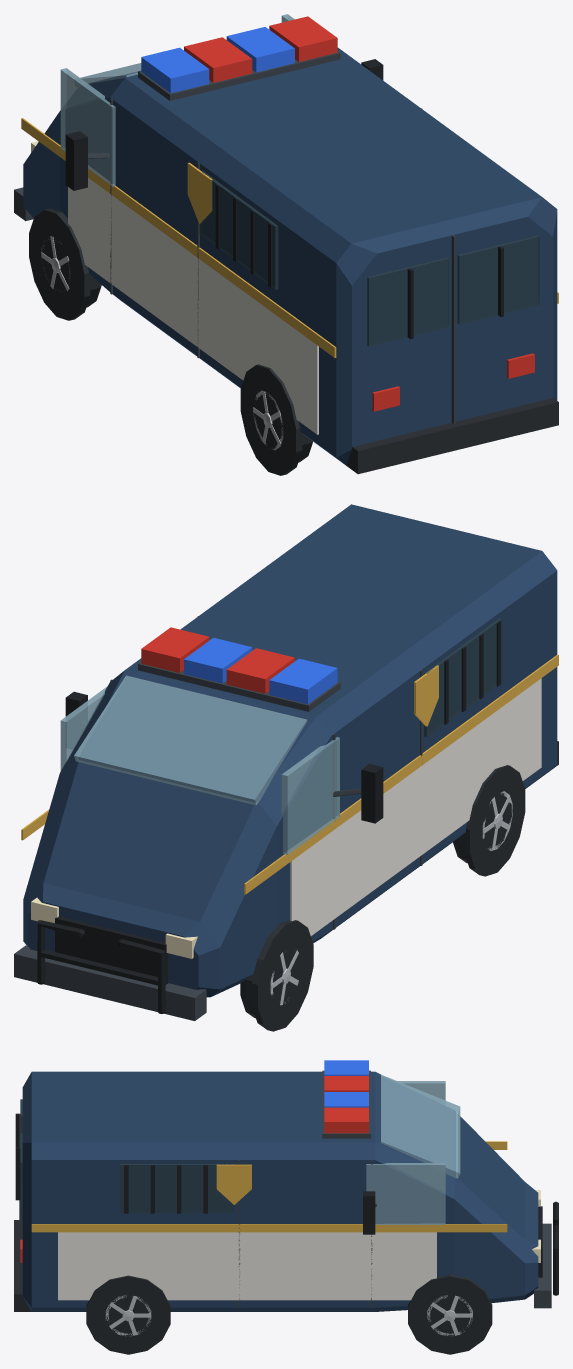
File: LAND_05.obj
The picture shows the model from 3 angles, top to bottom: view 1: azimuth 30°, elevation 25°; view 2: azimuth 150°, elevation 25°; view 3: azimuth 270°, elevation 25°; orthographic projection. The views are drawn at different scales.
Visible parts, largest first — view 1: body, doors_white, rear_windows, lightbar, bumpers, windows, barred_windows, wheel_R_L_arch, stripe, wheel_F_L_arch, wheel_F_L, wheel_R_L (+6 smaller); view 2: body, windows, doors_white, lightbar, bumpers, stripe, barred_windows, grille, wheel_F_L_arch, wheel_R_L_arch, wheel_F_L, wheel_R_L (+5 smaller); view 3: body, doors_white, windows, barred_windows, stripe, wheel_F_R_arch, wheel_R_R_arch, lightbar, wheel_F_R, wheel_R_R, bumpers, bars (+3 smaller).
Boxes of the visible parts, bbox=[...] form: body: bbox=[23, 47, 557, 465]; doors_white: bbox=[68, 178, 318, 434]; rear_windows: bbox=[367, 235, 539, 346]; lightbar: bbox=[138, 16, 340, 100]; bumpers: bbox=[14, 187, 558, 474]; windows: bbox=[60, 14, 294, 186]; barred_windows: bbox=[199, 170, 278, 289]; wheel_R_L_arch: bbox=[240, 364, 302, 475]; stripe: bbox=[21, 118, 558, 357]; wheel_F_L_arch: bbox=[29, 208, 90, 320]; wheel_F_L: bbox=[35, 222, 101, 307]; wheel_R_L: bbox=[247, 378, 312, 462]; body: bbox=[23, 504, 557, 997]; windows: bbox=[60, 675, 339, 854]; doors_white: bbox=[290, 678, 541, 935]; lightbar: bbox=[138, 627, 340, 711]; bumpers: bbox=[14, 741, 558, 1020]; stripe: bbox=[21, 654, 558, 894]; barred_windows: bbox=[424, 618, 502, 736]; grille: bbox=[55, 916, 168, 984]; wheel_F_L_arch: bbox=[252, 920, 313, 1031]; wheel_R_L_arch: bbox=[464, 765, 525, 876]; wheel_F_L: bbox=[240, 933, 307, 1018]; wheel_R_L: bbox=[453, 778, 518, 863]; body: bbox=[22, 1071, 538, 1311]; doors_white: bbox=[58, 1232, 436, 1300]; windows: bbox=[366, 1074, 460, 1224]; barred_windows: bbox=[119, 1164, 234, 1212]; stripe: bbox=[31, 1141, 507, 1232]; wheel_F_R_arch: bbox=[408, 1274, 492, 1354]; wheel_R_R_arch: bbox=[86, 1275, 170, 1354]; lightbar: bbox=[322, 1060, 370, 1138]; wheel_F_R: bbox=[417, 1285, 482, 1345]; wheel_R_R: bbox=[96, 1285, 160, 1344]; bumpers: bbox=[14, 1220, 551, 1311]; bars: bbox=[15, 1113, 207, 1213].
Size of the model in its own units: 3.08 by 2.77 by 6.18.
